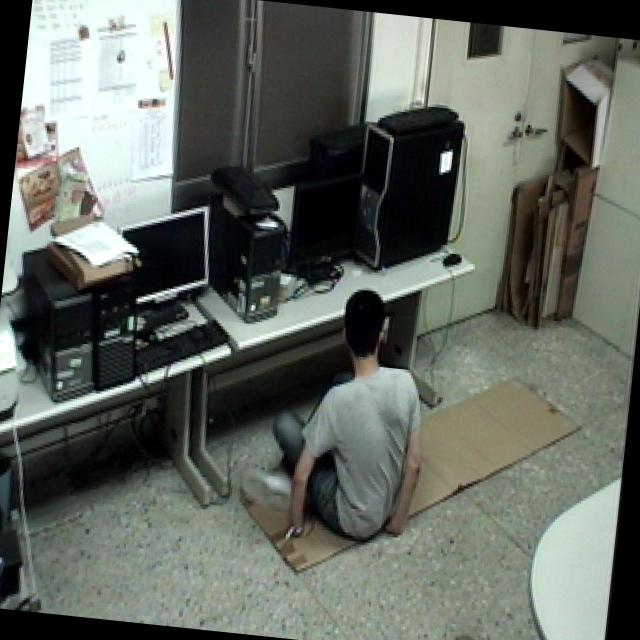sit: (232, 269, 444, 564)
